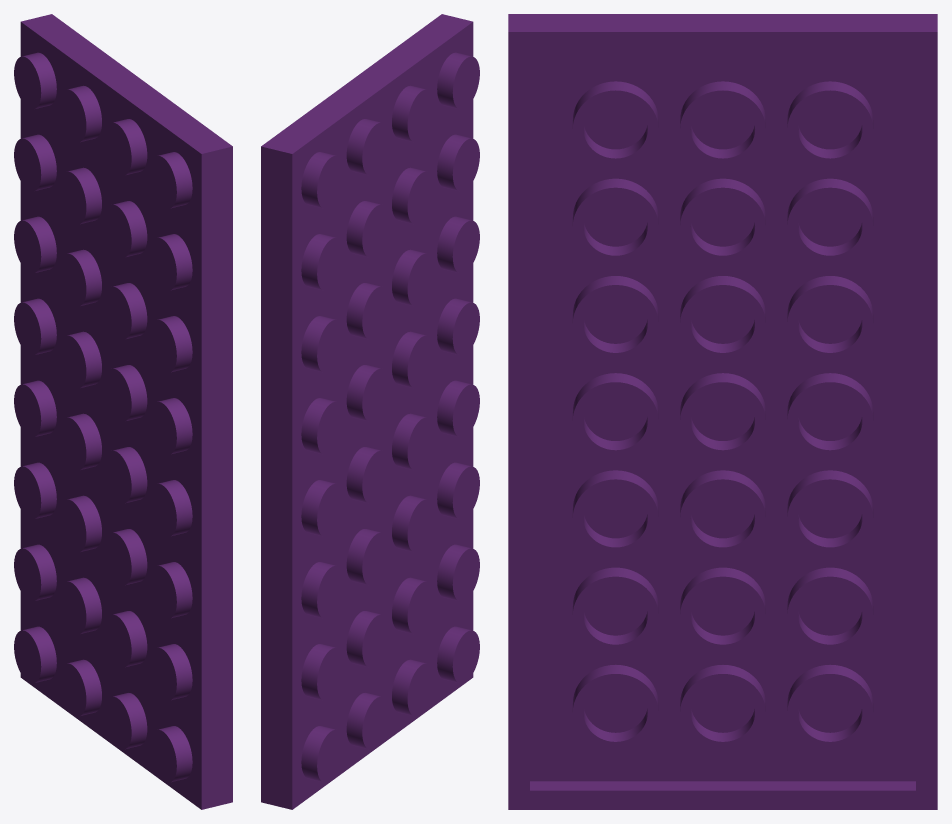
File: plate4*8_medium_lavender.obj
The picture shows the model from 3 angles, left to right: view 1: azimuth 30°, elevation 25°; view 2: azimuth 150°, elevation 25°; view 3: azimuth 270°, elevation 25°; orthographic projection. The views are drawn at different scales.
Size of the model in its own units: 12 by 160 by 80.
